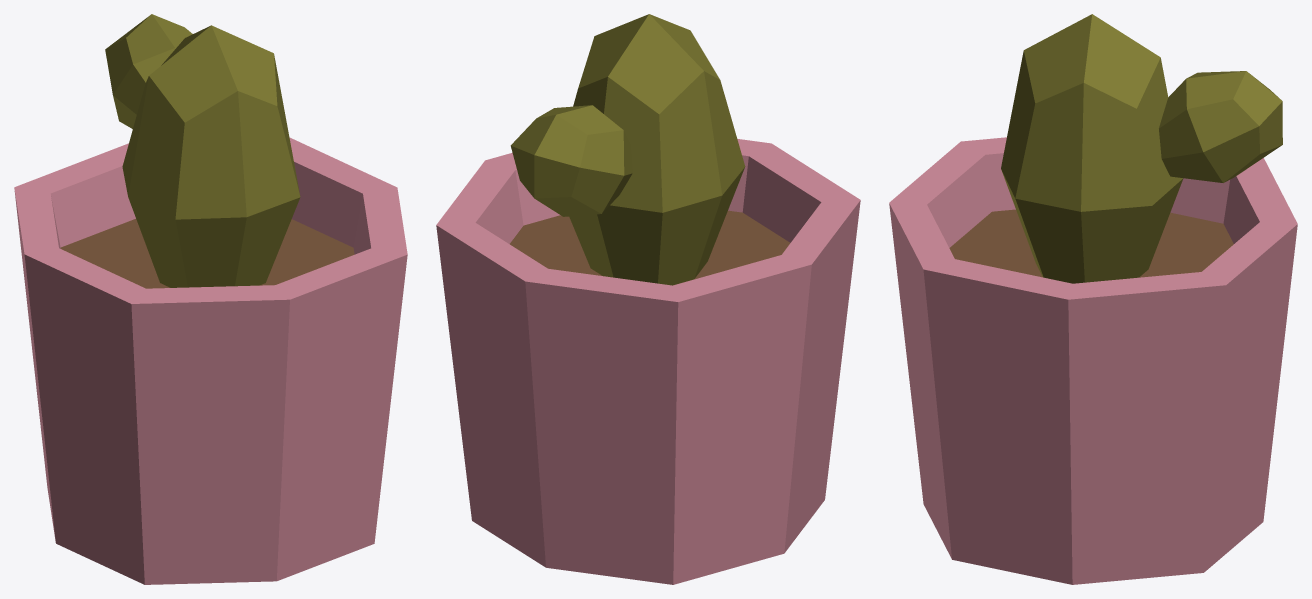
The model's file is Cactus_4_231109.glb.
3 views of the same model, side by side, from view 1: azimuth 30°, elevation 25°; view 2: azimuth 150°, elevation 25°; view 3: azimuth 270°, elevation 25° (orthographic).
Visible parts, largest first — view 1: Cactus_4; view 2: Cactus_4; view 3: Cactus_4.
Part boxes in pixels (<box>): Cactus_4: <box>14,14,407,584</box>; Cactus_4: <box>436,14,860,584</box>; Cactus_4: <box>889,14,1297,584</box>.
Bounding box in the file's own units: 0.1539 × 0.2074 × 0.1539.
Materials: 1 (1 with a texture image).
